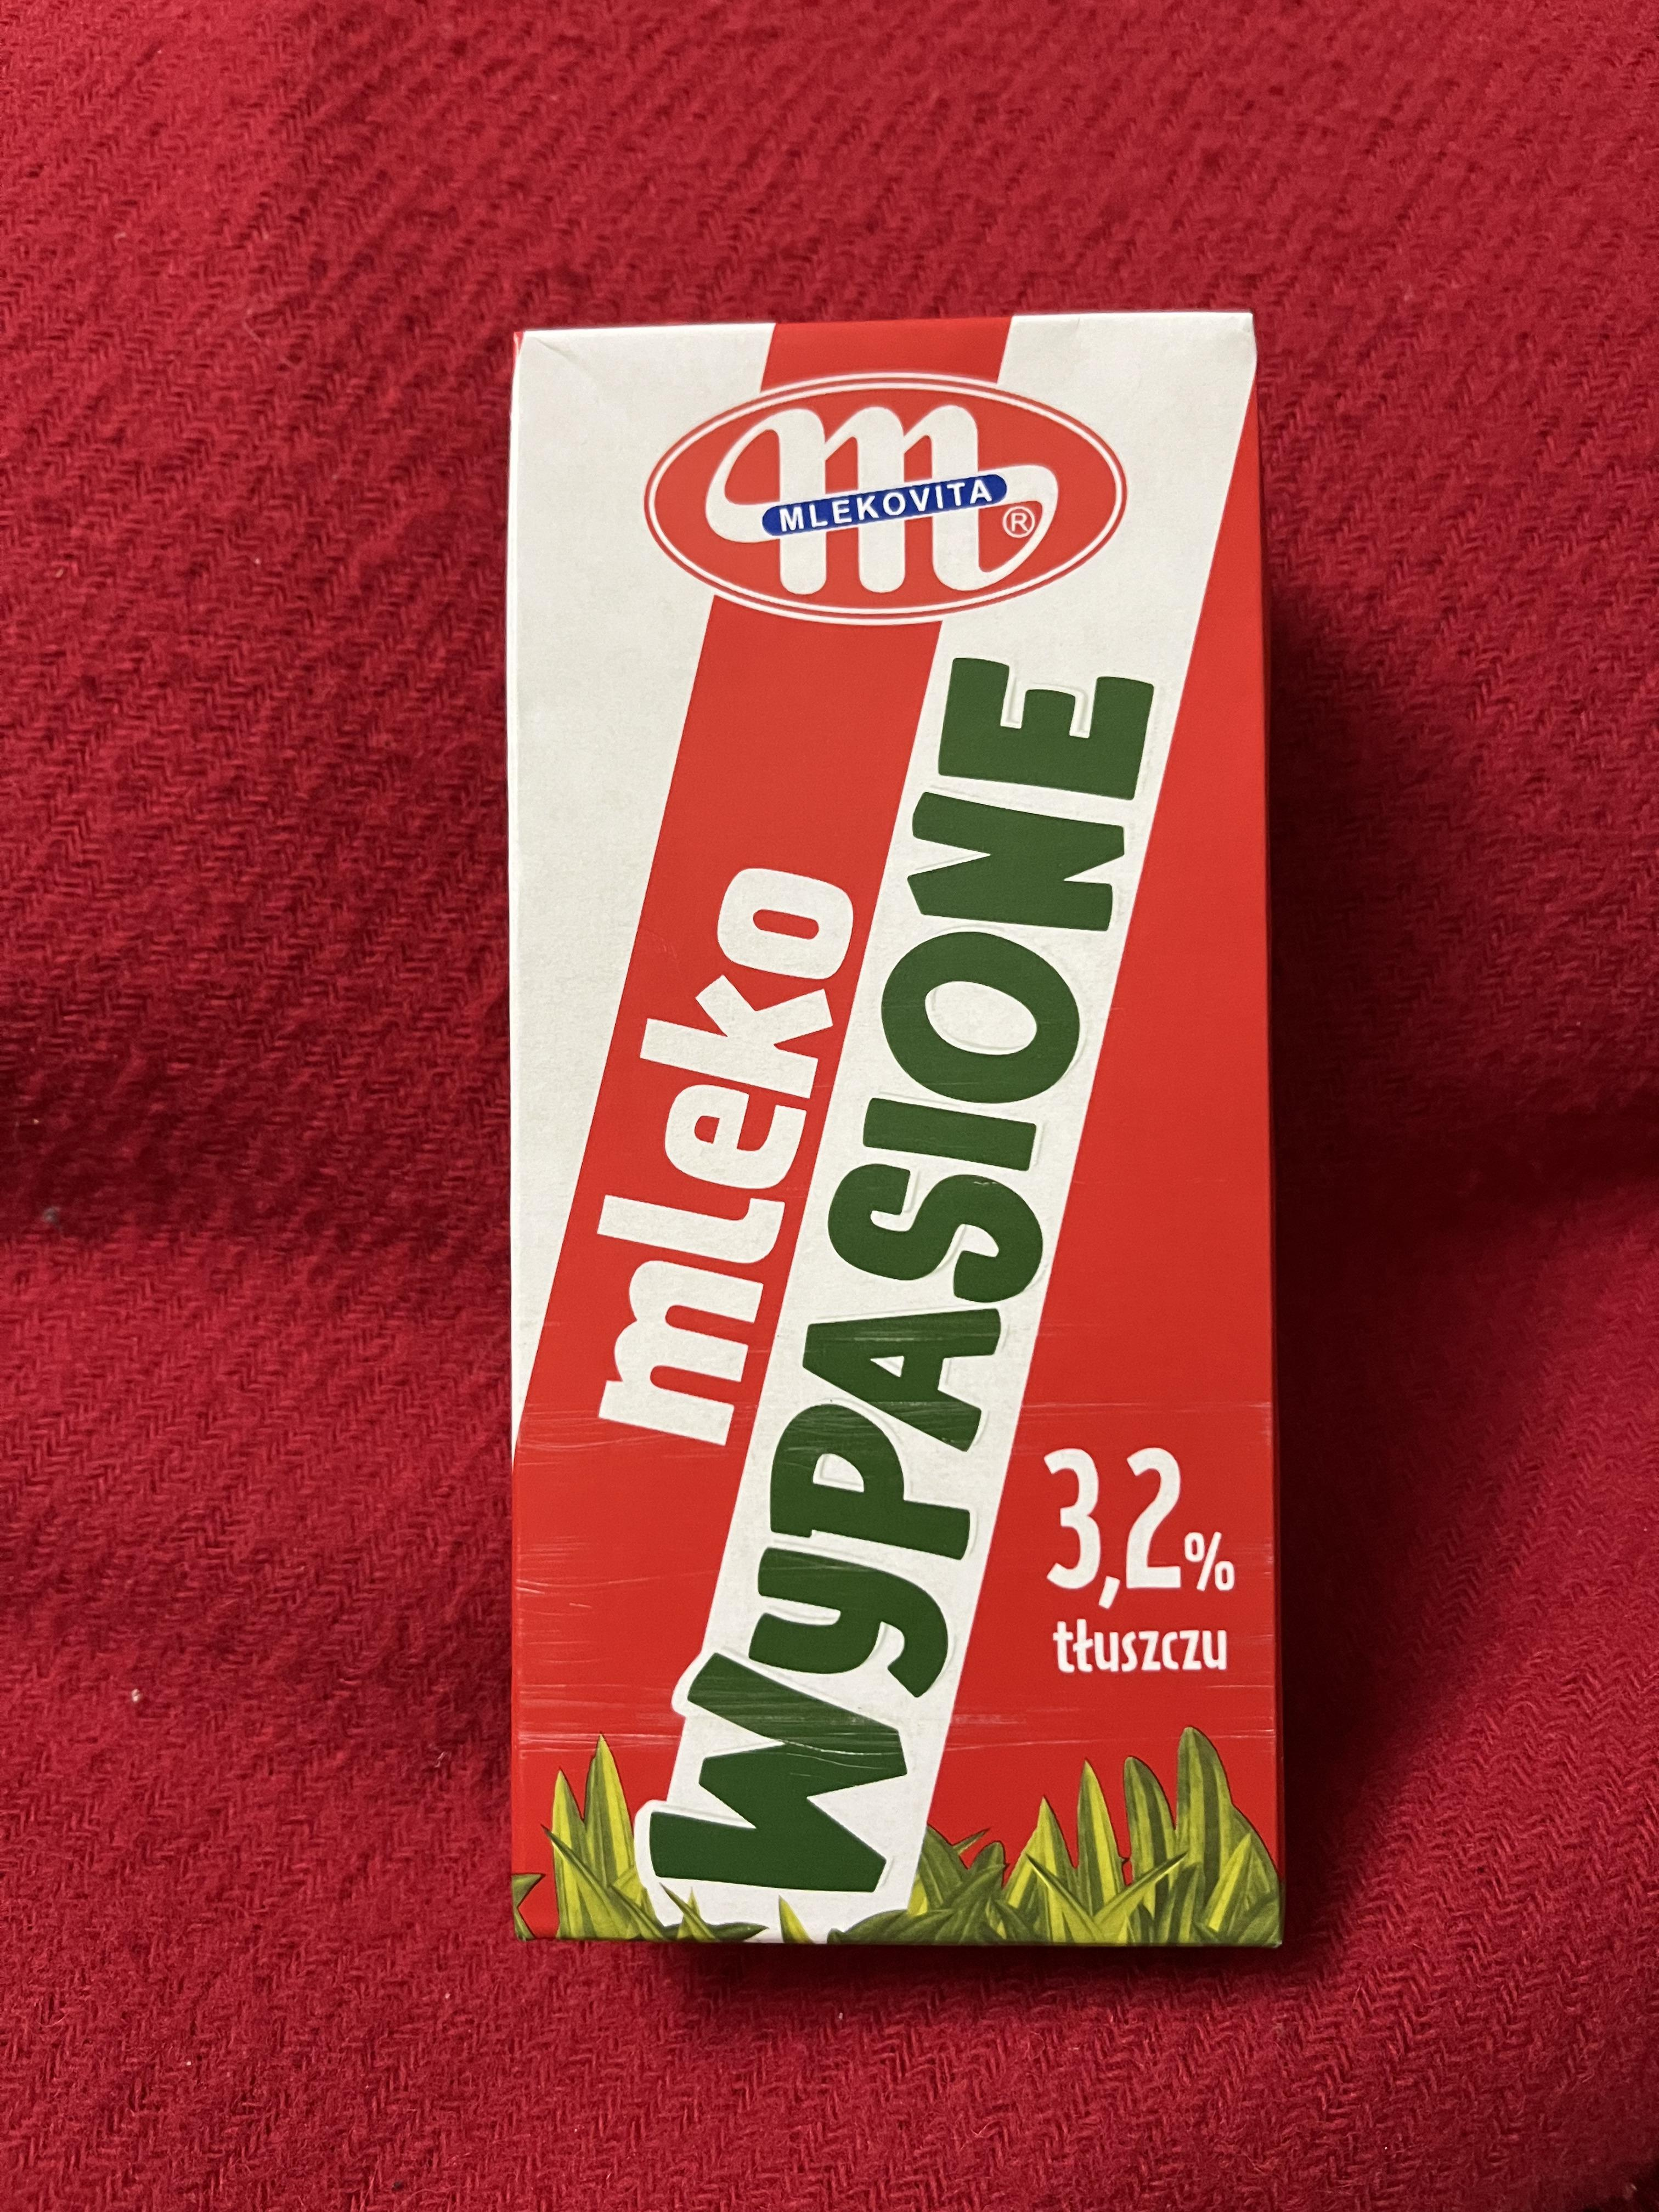Milk: (498, 319, 1300, 1986)
